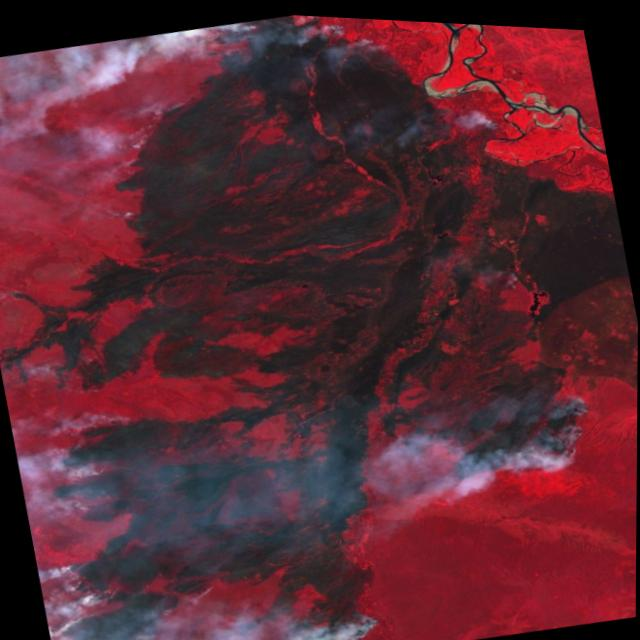fire: (10, 363, 393, 640), (72, 3, 429, 175), (440, 388, 597, 502), (0, 264, 115, 414)
